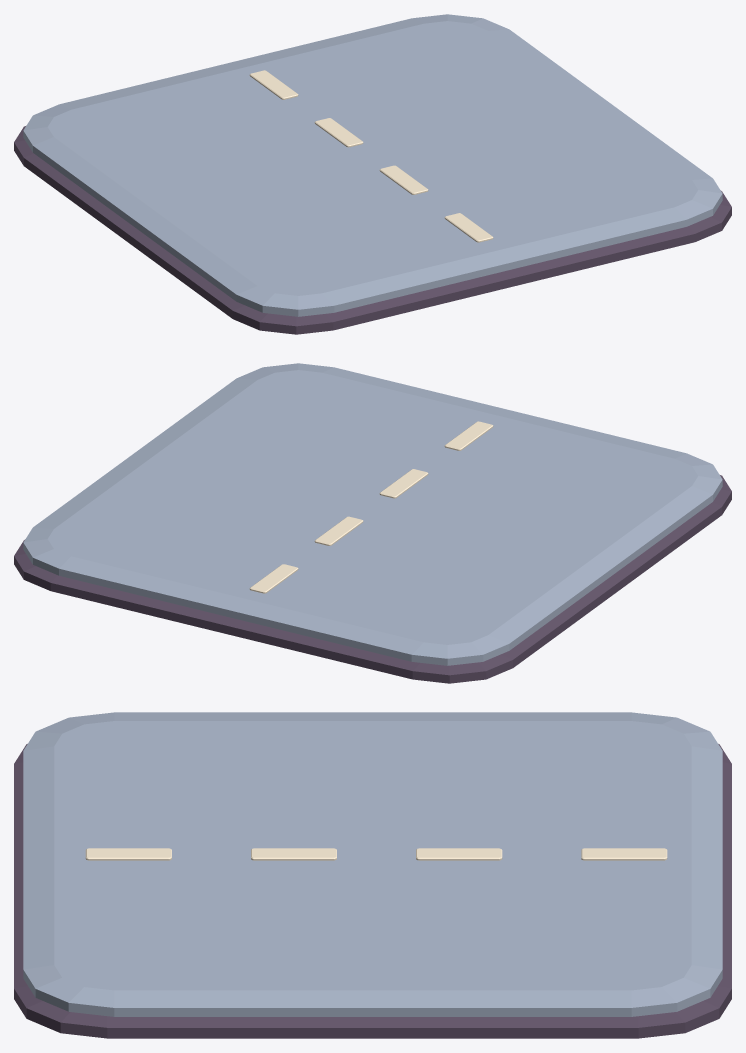
File: tile_straight.glb
3 renders of one model, top to bottom at view 1: azimuth 30°, elevation 25°; view 2: azimuth 150°, elevation 25°; view 3: azimuth 270°, elevation 25°, orthographic. The views are drawn at different scales.
Visible parts, largest first — view 1: model; view 2: model; view 3: model.
Boxes of the visible parts, bbox=[...] form: model: bbox=[14, 14, 731, 334]; model: bbox=[14, 363, 731, 683]; model: bbox=[14, 712, 731, 1038].
Size of the model in its own units: 2 by 0.12 by 2.
